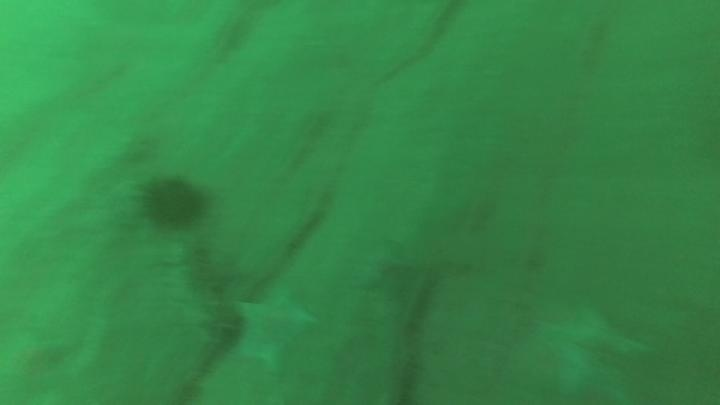echinus: (137, 172, 212, 233)
starfish: (531, 301, 656, 405), (228, 283, 320, 377)
